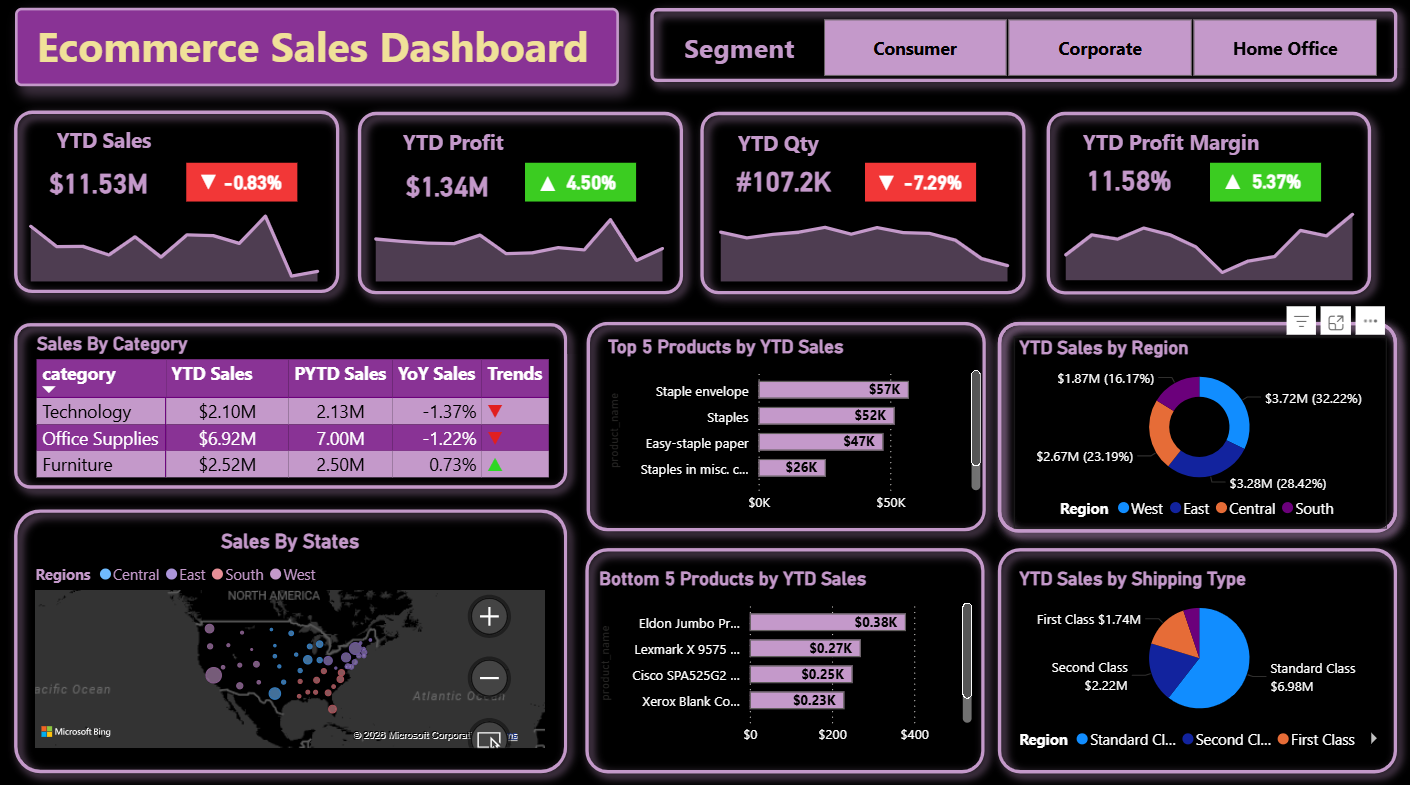

This screenshot's page, from the dashboard's own definition file:
{"tool":"powerbi","page":{"name":"Page 1","canvas":[1280,720],"ordinal":0},"visuals":[{"type":"textbox","box":[13.3,12.1,548.2,71.4],"z":0},{"type":"shape","box":[0,93.2,320.7,191.2],"z":1000},{"type":"shape","box":[169.4,153.7,100.4,35.1],"z":2000},{"type":"card","fields":{"Values":["ecommerce_data.YTD"]},"box":[18.2,150,142.8,43.6],"z":3000},{"type":"areaChart","fields":{"Category":["Calendar.Month"],"Y":["Sum(ecommerce_data.sales_per_order)"]},"box":[13.3,183.9,289.2,82.3],"z":4000},{"type":"card","fields":{"Values":["ecommerce_data.YoY Sales"]},"box":[190,147.6,79.9,48.4],"z":5000},{"type":"shape","box":[476.8,153.7,100.4,35.1],"z":6000},{"type":"card","fields":{"Values":["ecommerce_data.Sales icon"]},"box":[148.8,147.6,81.1,48.4],"z":7000},{"type":"textbox","box":[46,115,111.3,38.7],"z":8000},{"type":"shape","box":[312.2,94.4,320.7,191.2],"z":9000},{"type":"card","fields":{"Values":["ecommerce_data.YTD Profit"]},"box":[334.2,152,142.8,43.6],"z":10000},{"type":"areaChart","fields":{"Category":["Calendar.Month"],"Y":["Sum(ecommerce_data.profit_per_order)"]},"box":[326.7,183.9,289.2,82.3],"z":11000},{"type":"card","fields":{"Values":["ecommerce_data.YoY Profit"]},"box":[497.3,147.6,79.9,48.4],"z":12000},{"type":"card","fields":{"Values":["ecommerce_data.Profit icon"]},"box":[465.9,156.1,61.7,33.9],"z":13000},{"type":"textbox","box":[360.8,116.9,111.3,38.7],"z":14000},{"type":"shape","box":[623.2,94.4,320.7,191.2],"z":15000},{"type":"shape","box":[785.3,153.7,100.4,35.1],"z":16000},{"type":"card","fields":{"Values":["ecommerce_data.YTD Concatenate Qty"]},"box":[640.1,147.2,143.5,44.1],"z":17000},{"type":"areaChart","fields":{"Category":["Calendar.Month"],"Y":["Sum(ecommerce_data.order_quantity)"]},"box":[640.1,183.9,289.2,82.3],"z":18000},{"type":"card","fields":{"Values":["ecommerce_data.YoY Qty"]},"box":[805.9,147.6,79.9,48.4],"z":19000},{"type":"card","fields":{"Values":["ecommerce_data.Qty icon"]},"box":[773.8,155.7,61.3,34.3],"z":20000},{"type":"textbox","box":[664.7,117.7,110.4,38],"z":21000},{"type":"shape","box":[936.9,94.4,320.1,191.3],"z":22000},{"type":"shape","box":[1097.5,152.9,100.4,35.1],"z":23000},{"type":"card","fields":{"Values":["ecommerce_data.YTD Profit Margin"]},"box":[952.3,146.4,143.5,44.1],"z":24000},{"type":"areaChart","fields":{"Category":["Calendar.Month"],"Y":["ecommerce_data.Profit Margin"]},"box":[952.3,183.1,289.2,82.3],"z":25000},{"type":"card","fields":{"Values":["ecommerce_data.YoY Profit Margin"]},"box":[1118.1,146.8,79.9,48.4],"z":26000},{"type":"card","fields":{"Values":["ecommerce_data.Profit Margin icon"]},"box":[1087.7,155.7,61.3,33.1],"z":27000},{"type":"textbox","box":[977.4,116.5,203.6,38],"z":28000},{"type":"shape","box":[0,285.4,527.5,175.8],"z":29000},{"type":"pivotTable","title":"Sales By Category","fields":{"Rows":["ecommerce_data.category_name"],"Values":["ecommerce_data.YTD Sales","ecommerce_data.PYTD Sales","ecommerce_data.YoY Sales","ecommerce_data.Trends"]},"box":[28.9,307.1,498.6,148.1],"z":30000},{"type":"shape","box":[0,455.3,527.5,265],"z":31000},{"type":"map","title":"Sales By States","fields":{"Series":["ecommerce_data.customer_region"],"Size":["ecommerce_data.YTD Sales"],"Y":["us_state_long_lat_codes.latitude"],"X":["us_state_long_lat_codes.longitude"]},"box":[27.7,485.4,472.1,203.5],"z":32000},{"type":"shape","box":[519.1,284.2,387.8,215.6],"z":32001},{"type":"shape","box":[517.9,490.2,387.8,230],"z":32002},{"type":"barChart","title":"Top 5 Products by YTD Sales","fields":{"Category":["ecommerce_data.product_name"],"Y":["ecommerce_data.YTD Sales"]},"box":[546.8,309.5,348.1,169.8],"z":32003},{"type":"barChart","title":"Bottom 5 Products by YTD Sales","fields":{"Category":["ecommerce_data.product_name"],"Y":["ecommerce_data.YTD Sales"]},"box":[538.4,520.3,348.1,169.8],"z":32004},{"type":"shape","box":[892.4,284.2,387.8,216.8],"z":32005},{"type":"shape","box":[892.2,284.2,387.8,216.8],"z":32006},{"type":"shape","box":[892.4,490.2,387.8,230],"z":32007},{"type":"donutChart","title":"YTD Sales by Region","fields":{"Category":["ecommerce_data.customer_region"],"Y":["ecommerce_data.YTD Sales"]},"box":[920.1,310.7,337.2,174.6],"z":32008},{"type":"pieChart","title":"YTD Sales by Shipping Type","fields":{"Category":["ecommerce_data.shipping_type"],"Y":["ecommerce_data.YTD Sales"]},"box":[920.1,520.3,337.2,174.6],"z":32009},{"type":"shape","box":[576.9,0,703.4,92.7],"z":32010},{"type":"slicer","fields":{"Values":["ecommerce_data.customer_segment"]},"box":[721.4,15.7,551.6,65],"z":32011},{"type":"textbox","box":[615.4,27.7,130.1,53],"z":32012}]}

Visuals, with their boxes in screenshot pixels (x1, y1, x2, y2), scaled from the page's 1280x720 canvas onto the 1410x785 screenshot:
textbox: 15:13:619:91
shape: 0:102:353:310
shape: 187:168:297:206
card - ecommerce_data.YTD: 20:164:177:211
areaChart - Calendar.Month x Sum(ecommerce_data.sales_per_order): 15:201:333:290
card - ecommerce_data.YoY Sales: 209:161:297:214
shape: 525:168:636:206
card - ecommerce_data.Sales icon: 164:161:253:214
textbox: 51:125:173:168
shape: 344:103:697:311
card - ecommerce_data.YTD Profit: 368:166:525:213
areaChart - Calendar.Month x Sum(ecommerce_data.profit_per_order): 360:201:678:290
card - ecommerce_data.YoY Profit: 548:161:636:214
card - ecommerce_data.Profit icon: 513:170:581:207
textbox: 397:127:520:170
shape: 686:103:1040:311
shape: 865:168:976:206
card - ecommerce_data.YTD Concatenate Qty: 705:160:863:209
areaChart - Calendar.Month x Sum(ecommerce_data.order_quantity): 705:201:1024:290
card - ecommerce_data.YoY Qty: 888:161:976:214
card - ecommerce_data.Qty icon: 852:170:920:207
textbox: 732:128:854:170
shape: 1032:103:1385:311
shape: 1209:167:1320:205
card - ecommerce_data.YTD Profit Margin: 1049:160:1207:208
areaChart - Calendar.Month x ecommerce_data.Profit Margin: 1049:200:1368:289
card - ecommerce_data.YoY Profit Margin: 1232:160:1320:213
card - ecommerce_data.Profit Margin icon: 1198:170:1266:206
textbox: 1077:127:1301:168
shape: 0:311:581:503
"Sales By Category" pivotTable: 32:335:581:496
shape: 0:496:581:784
"Sales By States" map: 31:529:551:751
shape: 572:310:999:545
shape: 570:534:998:784
"Top 5 Products by YTD Sales" barChart: 602:337:986:523
"Bottom 5 Products by YTD Sales" barChart: 593:567:977:752
shape: 983:310:1409:546
shape: 983:310:1409:546
shape: 983:534:1409:784
"YTD Sales by Region" donutChart: 1014:339:1385:529
"YTD Sales by Shipping Type" pieChart: 1014:567:1385:758
shape: 635:0:1409:101
slicer - ecommerce_data.customer_segment: 795:17:1402:88
textbox: 678:30:821:88
